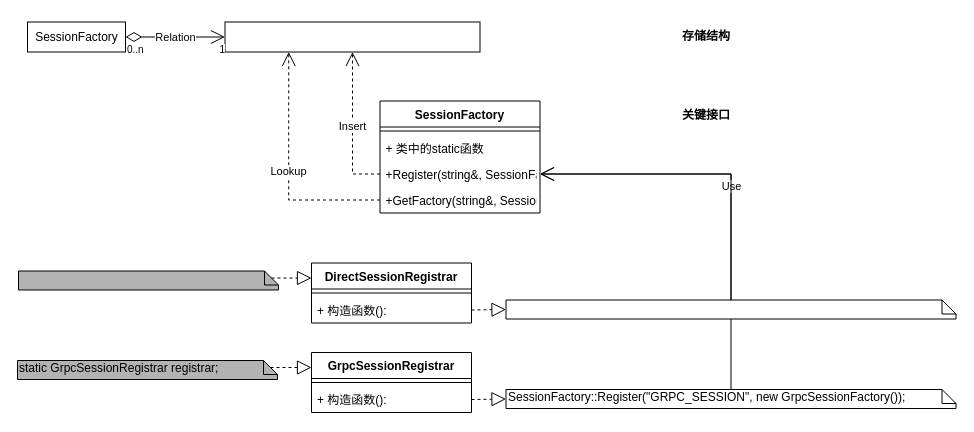
This 974x432 diagram has some shape labels left out. The centre of each missing label's shape, as x and y in pixels:
SessionFactory ::Register( "DIRECT_SESSION" , new DirectSessionFactory()) ;: the point at 730,309
static DirectSessionRegistrar registrar ;: the point at 148,280
std :: unordered_map < string , SessionFactory *>: the point at 352,36
